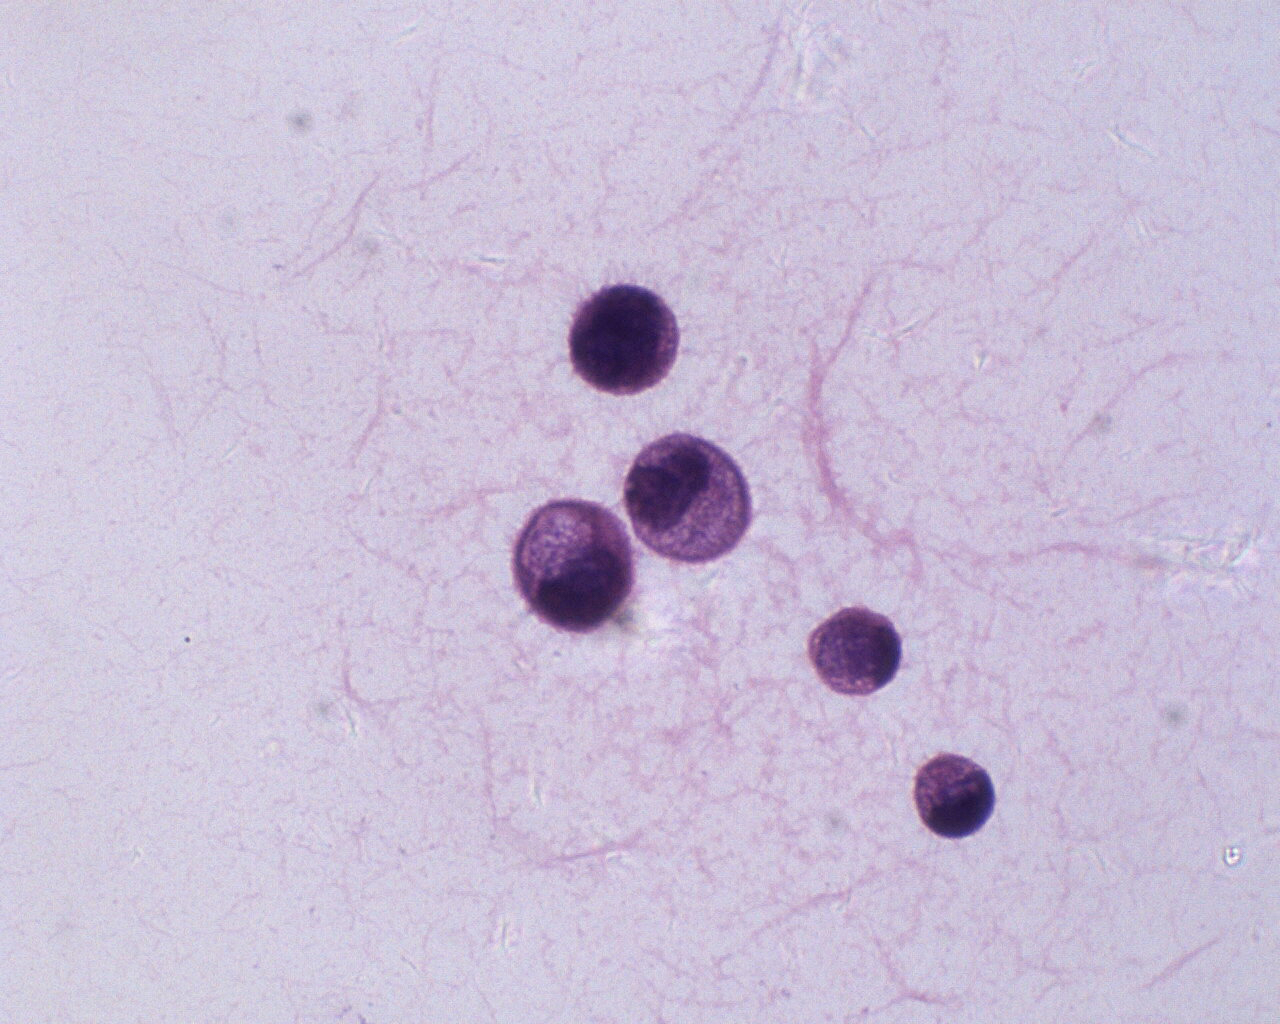ab: (505, 493, 648, 638), (626, 427, 759, 567), (562, 277, 685, 401), (805, 600, 907, 701), (910, 752, 1002, 845)
